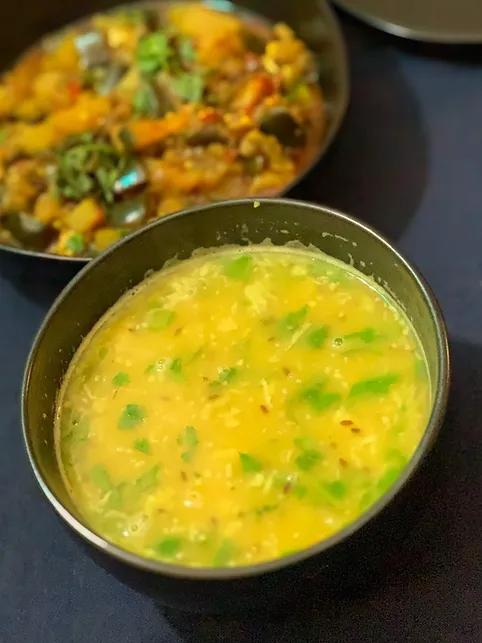aloo sabji: (0, 0, 384, 204)
varan: (39, 249, 482, 565)
